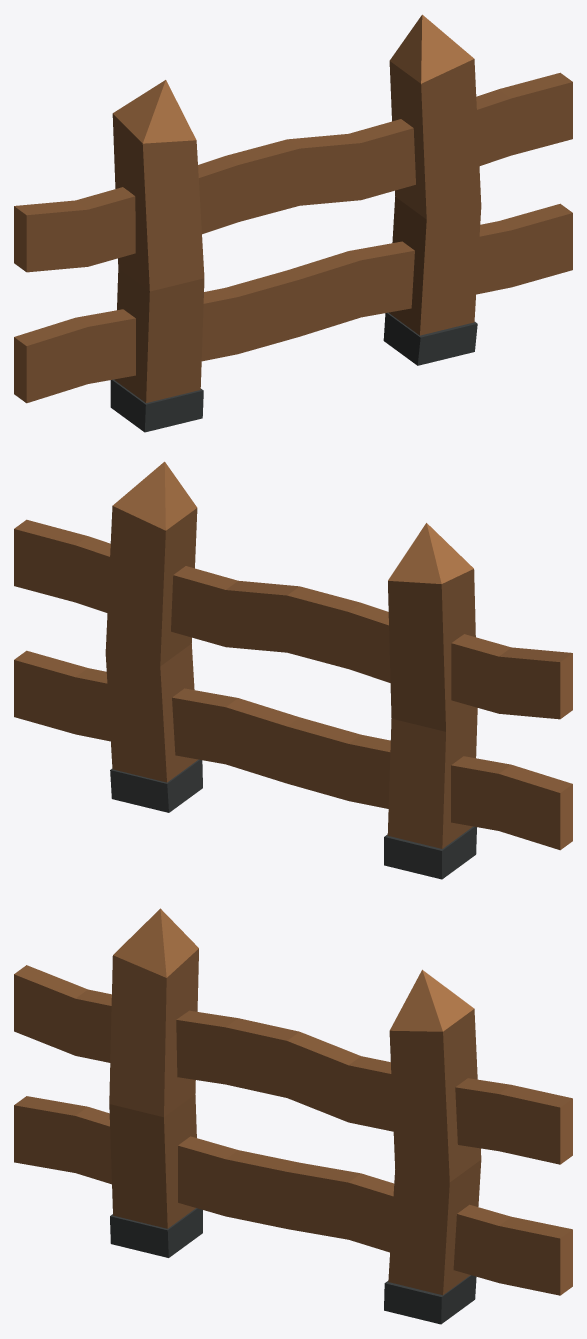
File: Fence_12_Light_Brown.fbx
The picture shows the model from 3 angles, top to bottom: view 1: azimuth 30°, elevation 25°; view 2: azimuth 150°, elevation 25°; view 3: azimuth 330°, elevation 25°; orthographic projection.
Parts seen in each view (by area): view 1: Fence_12_Light_Brown; view 2: Fence_12_Light_Brown; view 3: Fence_12_Light_Brown.
Boxes of the visible parts, x1,y1,x2,y2 form: Fence_12_Light_Brown: [14, 14, 572, 432]; Fence_12_Light_Brown: [14, 461, 572, 879]; Fence_12_Light_Brown: [14, 908, 572, 1324].
Size of the model in its own units: 200 by 117 by 23.71.
